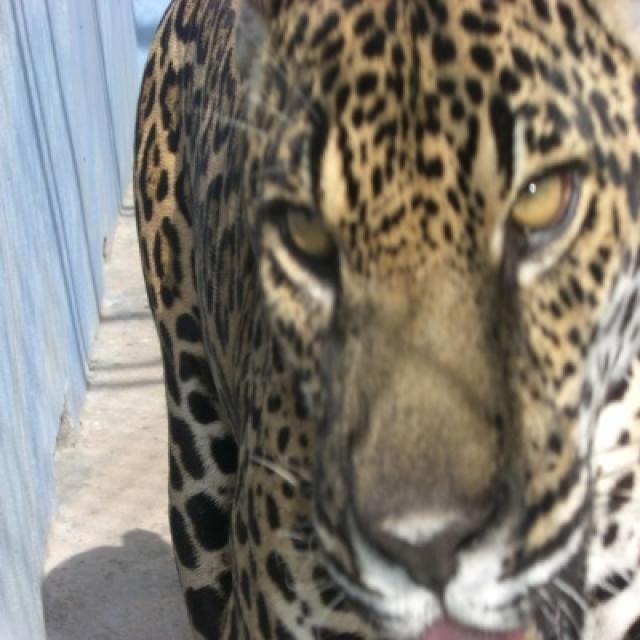Jaguar: (133, 0, 638, 638)
